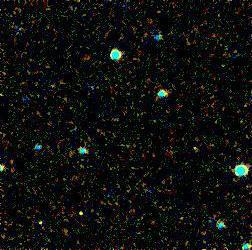star: (68, 201, 98, 231)
